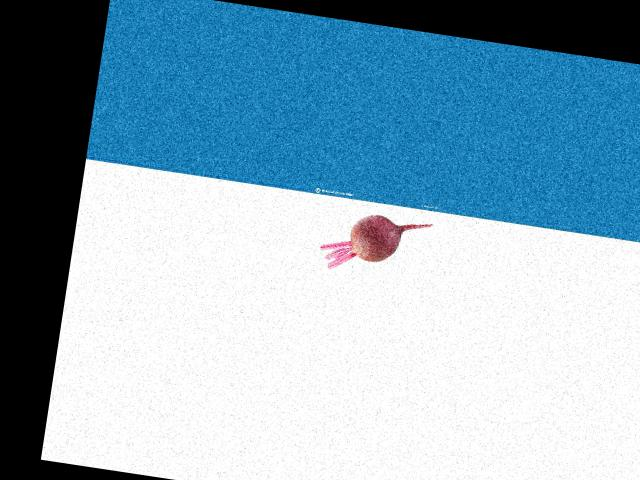beet: (318, 208, 431, 282)
